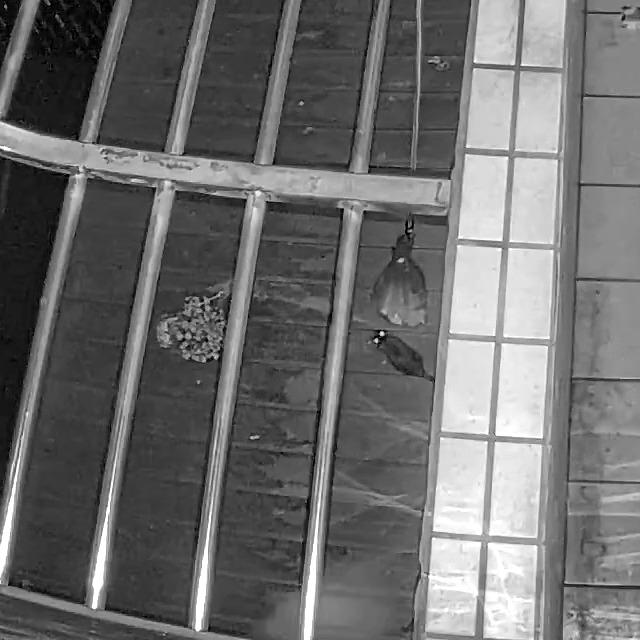rat: (370, 330, 434, 388)
